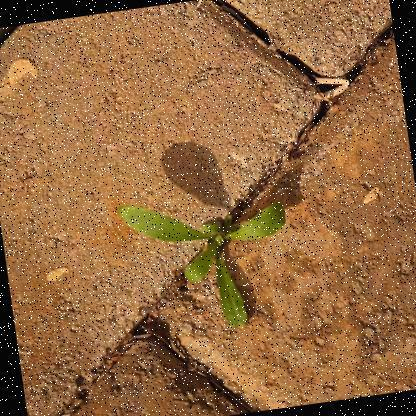Weeds: (116, 179, 302, 348)
